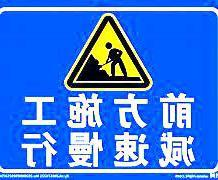sign: (1, 3, 216, 175)
